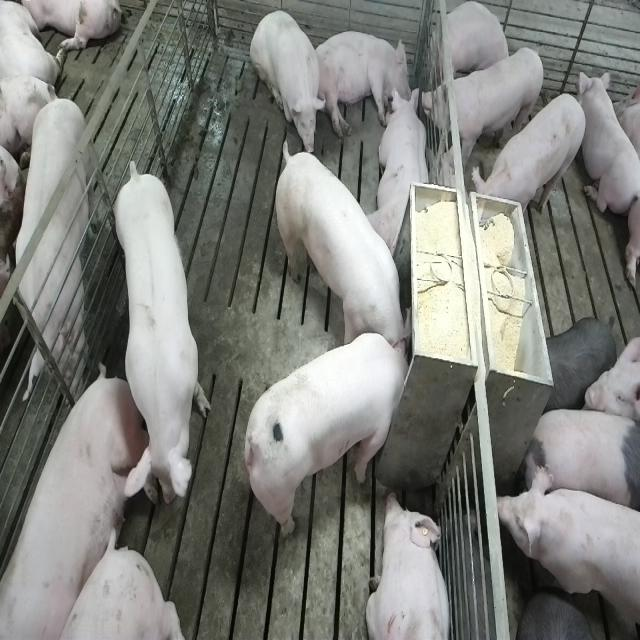Feeding: (249, 332, 420, 540), (273, 136, 409, 360)
Lateral_lying: (3, 361, 159, 636), (314, 31, 413, 138)
Sitting: (250, 8, 327, 157)
Standing: (110, 155, 208, 515), (0, 88, 92, 414), (496, 457, 638, 640), (473, 92, 588, 235), (423, 44, 544, 168), (527, 400, 637, 513), (542, 316, 620, 414)
Sternal_lying: (368, 490, 454, 640), (371, 85, 432, 261), (579, 70, 638, 222), (436, 2, 512, 87)
